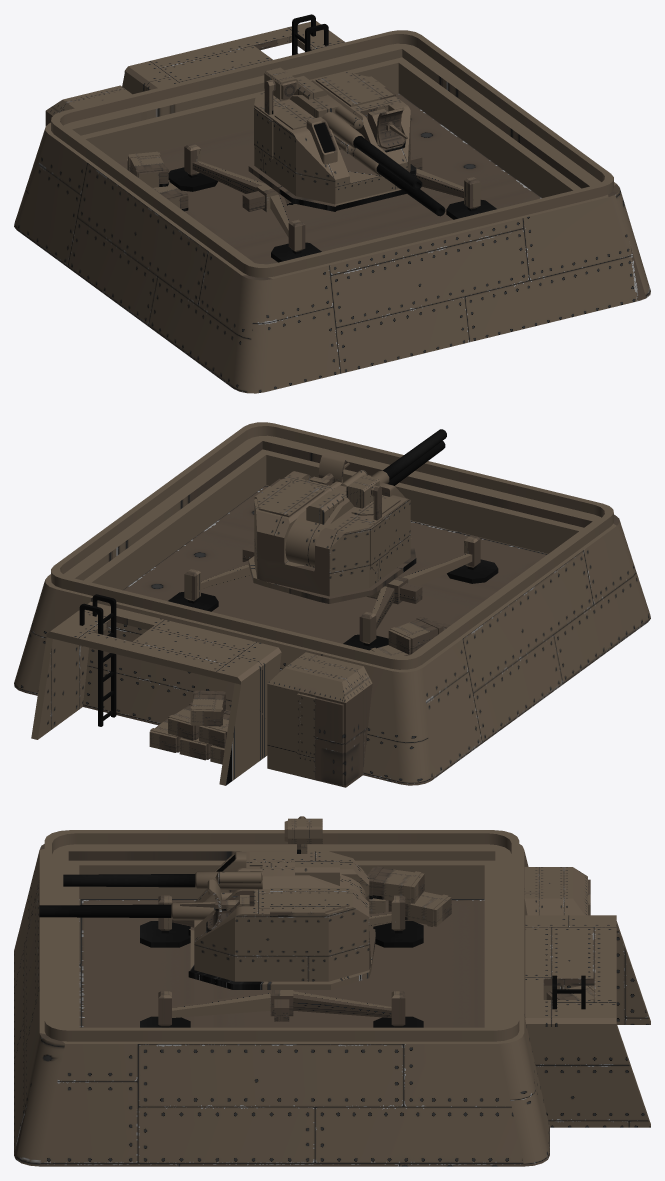
File: Ground_Air_Turret_Level2 1.fbx
The picture shows the model from 3 angles, top to bottom: view 1: azimuth 30°, elevation 25°; view 2: azimuth 150°, elevation 25°; view 3: azimuth 270°, elevation 25°; orthographic projection. The views are drawn at different scales.
Parts seen in each view (by area): view 1: Base.001, Turret.001, Breech.001, Gun2, Gun1, Radar.001, Camera.002; view 2: Base.001, Turret.001, Breech.001, Gun2, Camera.002, Radar.001, Gun1; view 3: Base.001, Turret.001, Breech.001, Gun2, Gun1, Camera.002, Radar.001.
Boxes of the visible parts, box(x1,y1,x2,y2) form: Base.001: box(14, 14, 650, 393); Turret.001: box(248, 72, 416, 211); Breech.001: box(290, 76, 363, 153); Gun2: box(322, 112, 422, 189); Gun1: box(348, 148, 445, 216); Radar.001: box(377, 107, 407, 148); Camera.002: box(264, 67, 297, 101); Base.001: box(14, 422, 650, 787); Turret.001: box(248, 471, 416, 603); Breech.001: box(285, 470, 367, 567); Gun2: box(371, 429, 446, 483); Camera.002: box(346, 475, 379, 508); Radar.001: box(318, 453, 349, 483); Gun1: box(388, 441, 445, 485); Base.001: box(14, 830, 650, 1166); Turret.001: box(188, 816, 375, 989); Breech.001: box(215, 861, 366, 899); Gun2: box(63, 871, 262, 889); Gun1: box(39, 902, 215, 920); Camera.002: box(284, 818, 322, 843); Radar.001: box(180, 879, 238, 929).
Bounding box in the file's own units: 5.7 × 2.06 × 4.8.
